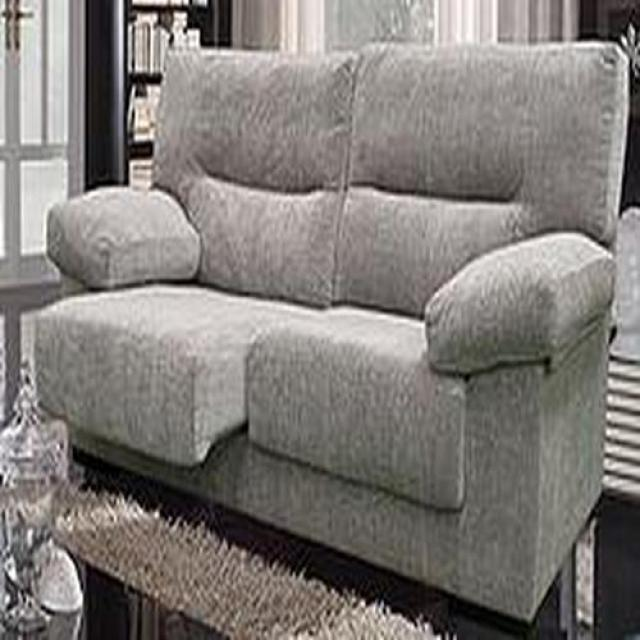sofa: (23, 42, 640, 640)
